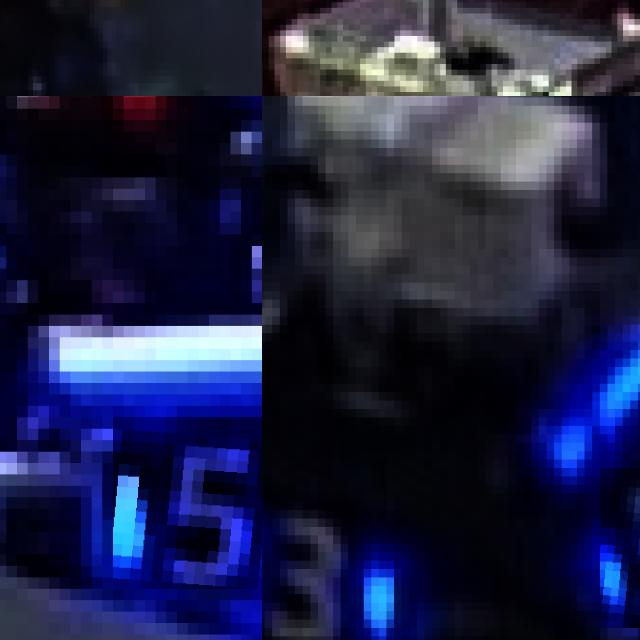B3: (262, 510, 394, 640), (600, 468, 640, 628)
B5: (113, 417, 262, 588)
